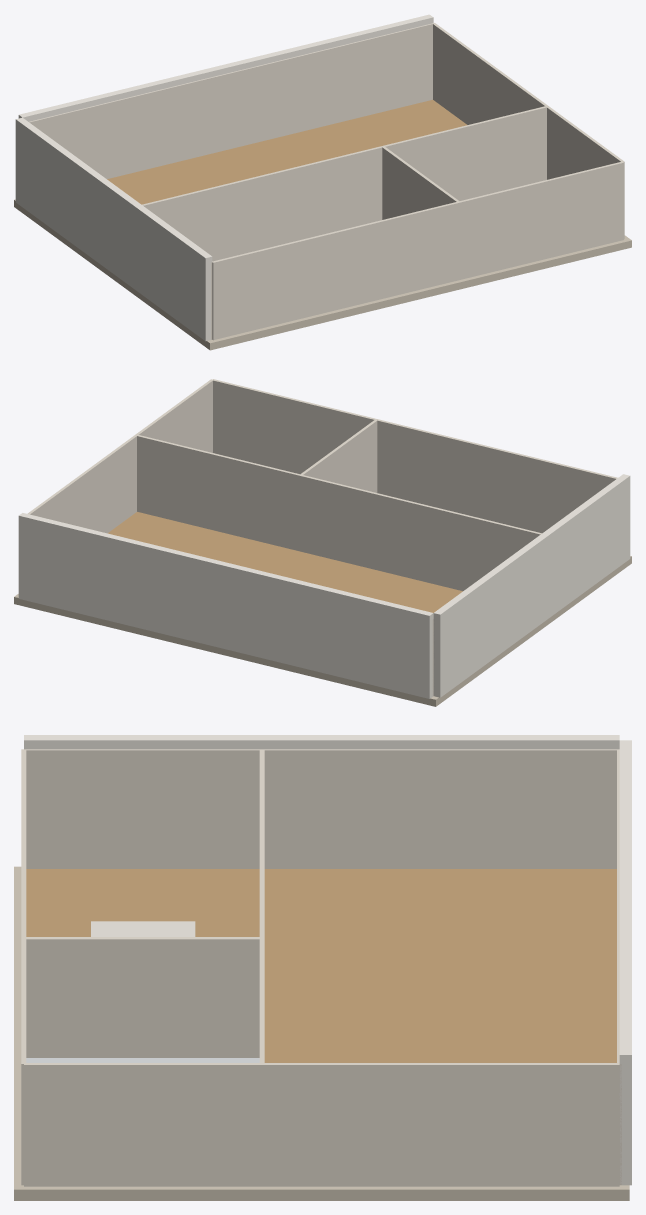
The model's file is villa-1.glb.
3 views of the same model, one above another, from view 1: azimuth 30°, elevation 25°; view 2: azimuth 150°, elevation 25°; view 3: azimuth 270°, elevation 25° (orthographic). The views are drawn at different scales.
Parts seen in each view (by area): view 1: level-lower, floor-multi, slab; view 2: level-lower, floor-multi, slab; view 3: level-lower, floor-multi, floor-bed4, slab, floor-bath.
Part boxes in pixels (x1=…): level-lower: x1=15, y1=14, x2=624, y2=341; floor-multi: x1=107, y1=99, x2=467, y2=204; slab: x1=14, y1=199, x2=631, y2=350; level-lower: x1=18, y1=379, x2=630, y2=698; floor-multi: x1=108, y1=512, x2=462, y2=612; slab: x1=14, y1=556, x2=631, y2=706; level-lower: x1=21, y1=735, x2=631, y2=1186; floor-multi: x1=264, y1=869, x2=616, y2=1062; floor-bed4: x1=26, y1=869, x2=259, y2=936; slab: x1=14, y1=866, x2=629, y2=1200; floor-bath: x1=26, y1=1058, x2=259, y2=1062.
Size of the model in its own units: 15.45 by 3.15 by 12.45.
